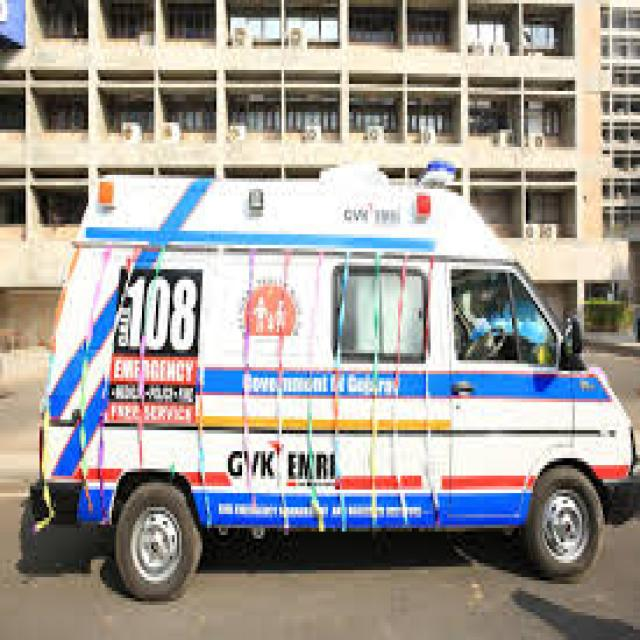Ambulance: (30, 147, 640, 640)
